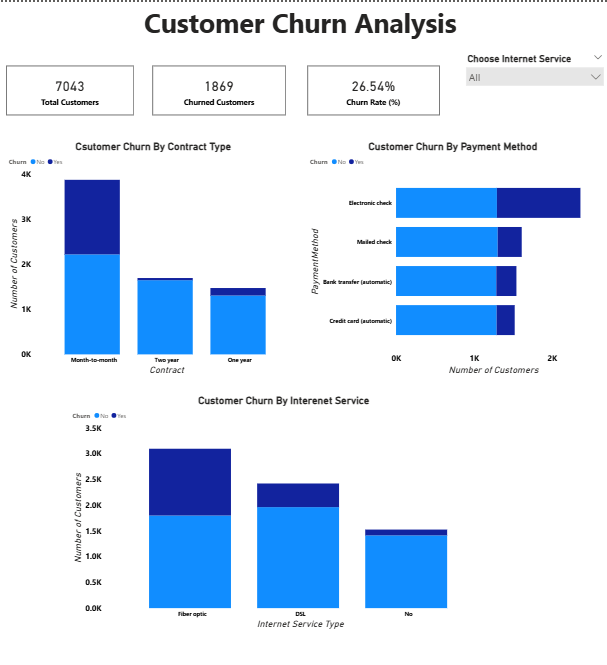

What the dashboard file says about the page in this screenshot:
{"tool":"powerbi","page":{"name":"Page 1","canvas":[1280,1400],"ordinal":0},"visuals":[{"type":"card","fields":{"Values":["Telco_Customer_Churn_Dataset  (2).Total Customers"]},"box":[12.1,133,268.5,104],"z":0},{"type":"card","fields":{"Values":["Telco_Customer_Churn_Dataset  (2).Churned Customers"]},"box":[321.7,133,280.6,104],"z":1},{"type":"card","fields":{"Values":["Telco_Customer_Churn_Dataset  (2).Churn Rate %"]},"box":[648.2,133,278.2,104],"z":2},{"type":"columnChart","title":"Csutomer Churn By Contract Type","fields":{"Category":["Telco_Customer_Churn_Dataset  (2).Contract"],"Series":["Telco_Customer_Churn_Dataset  (2).Churn"],"Y":["CountNonNull(Telco_Customer_Churn_Dataset  (2).customerID)"]},"box":[12.1,292.7,619.2,498.3],"z":3},{"type":"barChart","title":"Customer Churn By Payment Method","fields":{"Category":["Telco_Customer_Churn_Dataset  (2).PaymentMethod"],"Series":["Telco_Customer_Churn_Dataset  (2).Churn"],"Y":["CountNonNull(Telco_Customer_Churn_Dataset  (2).customerID)"]},"box":[648.2,292.7,612,498.3],"z":4},{"type":"columnChart","title":"Customer Churn By Interenet Service","fields":{"Category":["Telco_Customer_Churn_Dataset  (2).InternetService"],"Y":["CountNonNull(Telco_Customer_Churn_Dataset  (2).customerID)"],"Series":["Telco_Customer_Churn_Dataset  (2).Churn"]},"box":[147.5,827.2,899.8,498.3],"z":5},{"type":"slicer","fields":{"Values":["Telco_Customer_Churn_Dataset  (2).InternetService"]},"box":[969.9,101.6,309.6,135.5],"z":6},{"type":"textbox","box":[0,0,1279.6,101.6],"z":7}]}

Visuals, with their boxes in screenshot pixels (x1, y1, x2, y2), scaled from the page's 1280x1400 canvas onto the 607x665 screenshot:
card - Telco_Customer_Churn_Dataset  (2).Total Customers: 6:63:133:113
card - Telco_Customer_Churn_Dataset  (2).Churned Customers: 153:63:286:113
card - Telco_Customer_Churn_Dataset  (2).Churn Rate %: 307:63:439:113
"Csutomer Churn By Contract Type" columnChart: 6:139:299:376
"Customer Churn By Payment Method" barChart: 307:139:598:376
"Customer Churn By Interenet Service" columnChart: 70:393:497:630
slicer - Telco_Customer_Churn_Dataset  (2).InternetService: 460:48:606:113
textbox: 0:0:606:48
